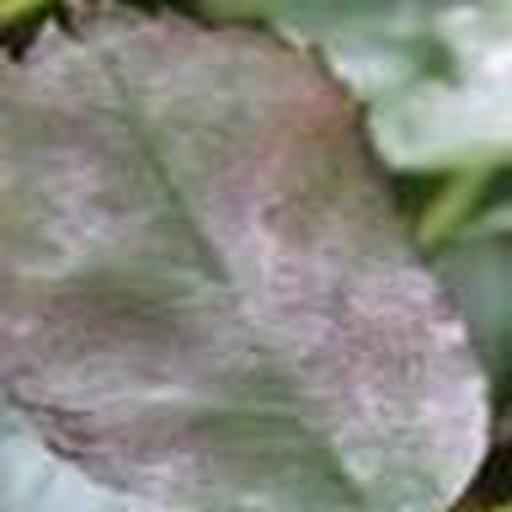powdery_mildew: (0, 8, 490, 512)
